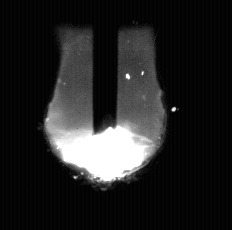arame: (94, 0, 118, 134)
poca: (46, 0, 164, 230)
